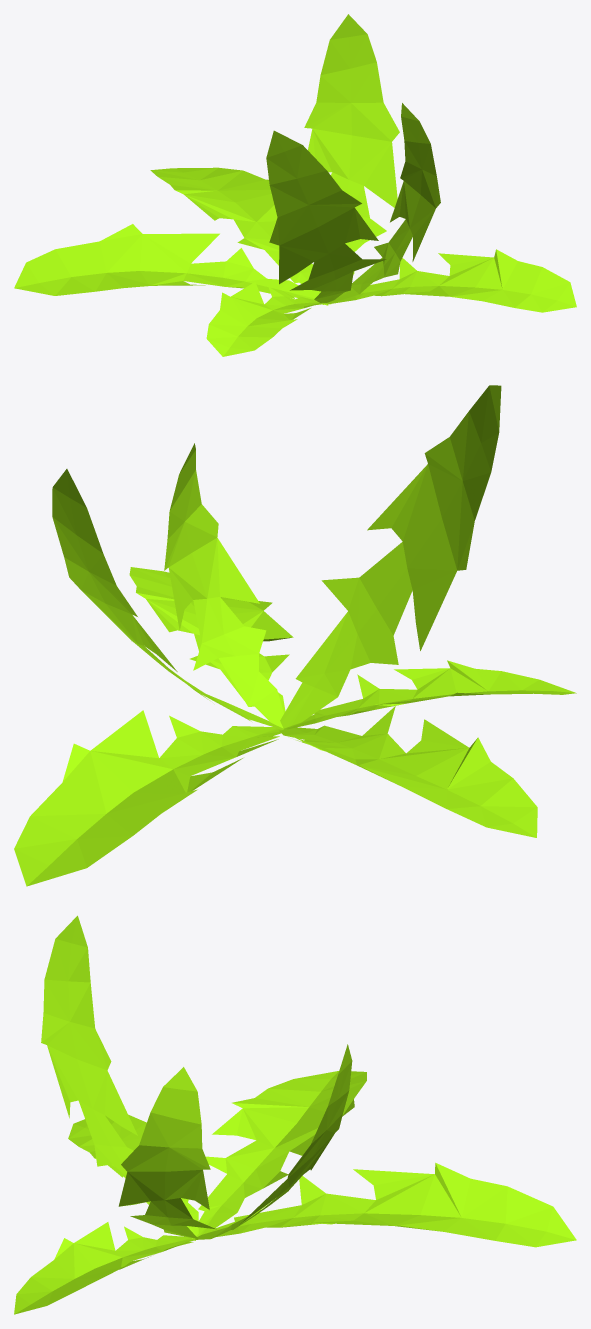
File: plant_small.dae
The picture shows the model from 3 angles, top to bottom: view 1: azimuth 30°, elevation 25°; view 2: azimuth 150°, elevation 25°; view 3: azimuth 270°, elevation 25°; orthographic projection. The views are drawn at different scales.
Parts seen in each view (by area): view 1: Small_Plant; view 2: Small_Plant; view 3: Small_Plant.
Boxes of the visible parts, x1=… form: Small_Plant: x1=14, y1=14, x2=576, y2=356; Small_Plant: x1=14, y1=385, x2=576, y2=886; Small_Plant: x1=14, y1=915, x2=576, y2=1314.
Bounding box in the file's own units: 0.0928 × 0.0949 × 0.0495.
